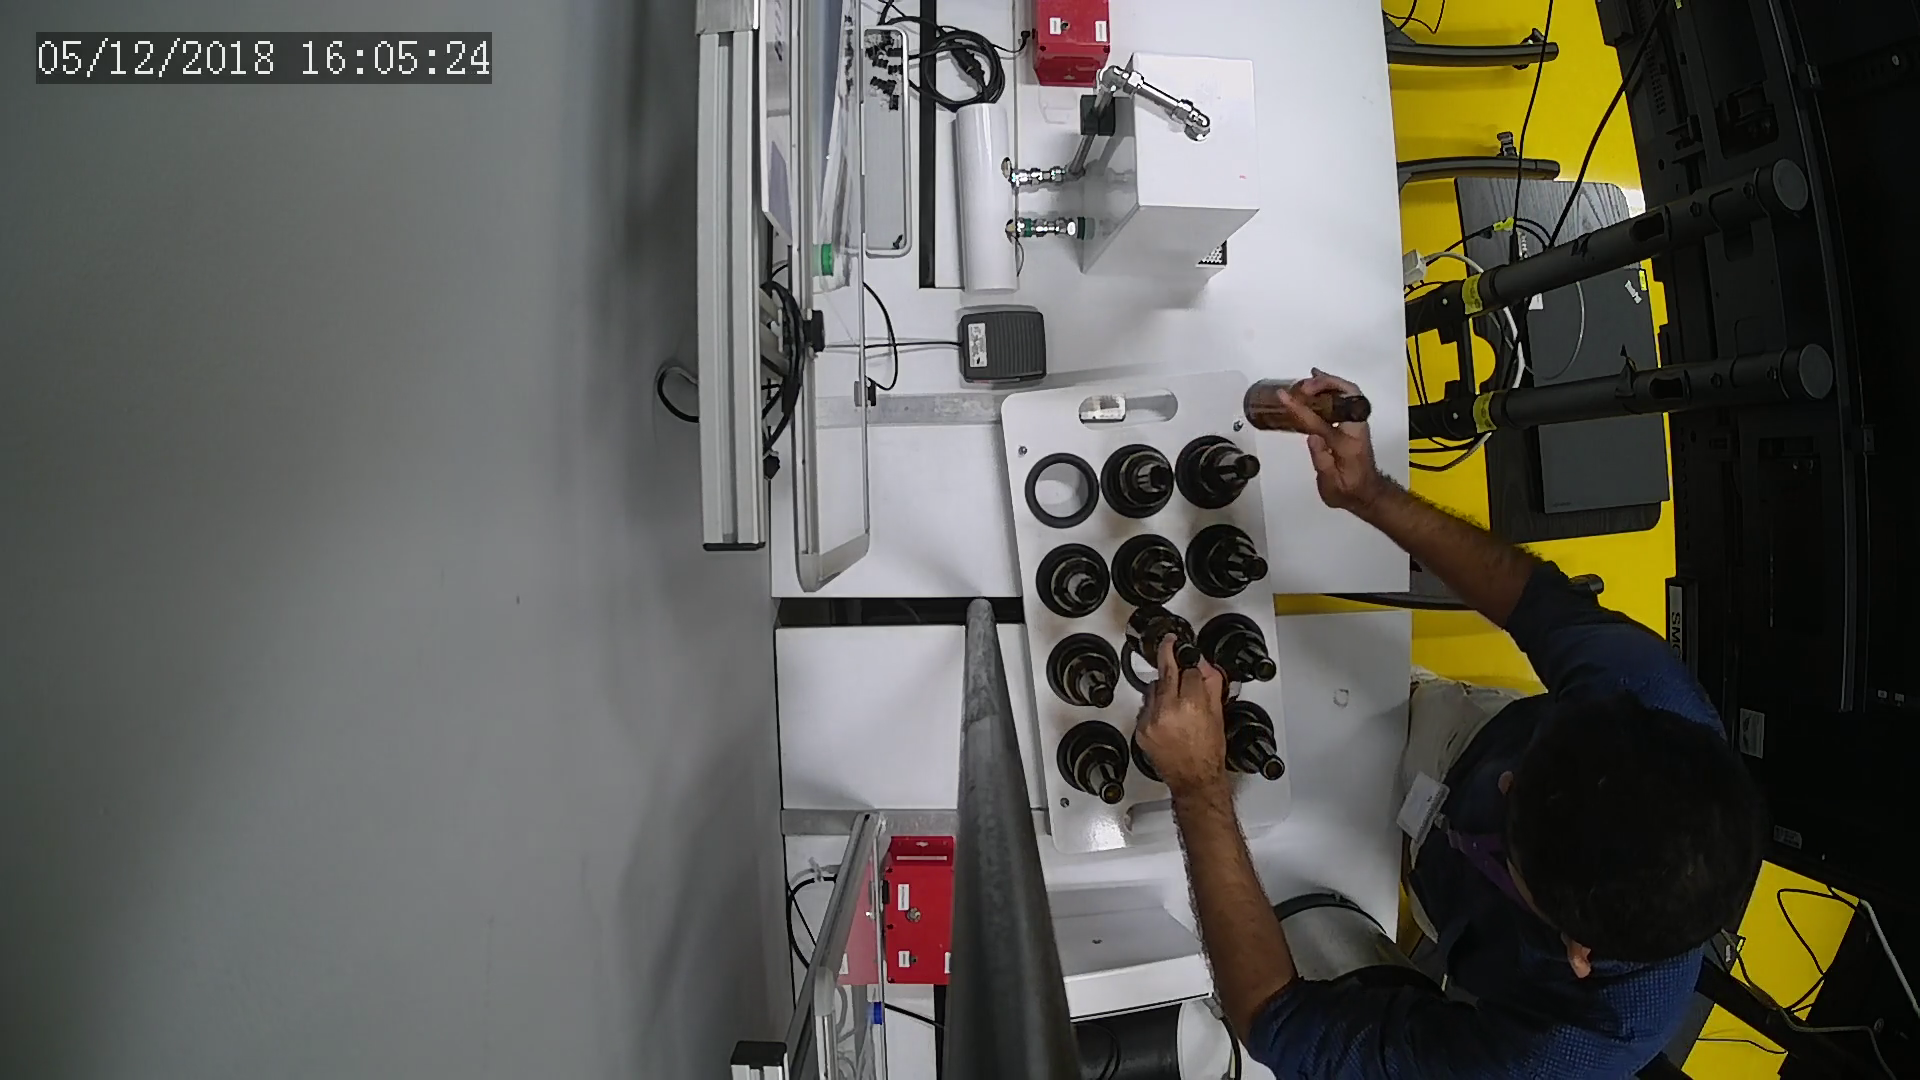filled_bottle: (1056, 717, 1133, 820), (1043, 630, 1126, 715), (1220, 699, 1291, 795), (1203, 613, 1283, 695), (1193, 524, 1274, 603), (1108, 434, 1176, 524), (1179, 440, 1262, 513), (1116, 530, 1189, 609), (1039, 545, 1110, 620)
trolley: (996, 372, 1304, 858)
